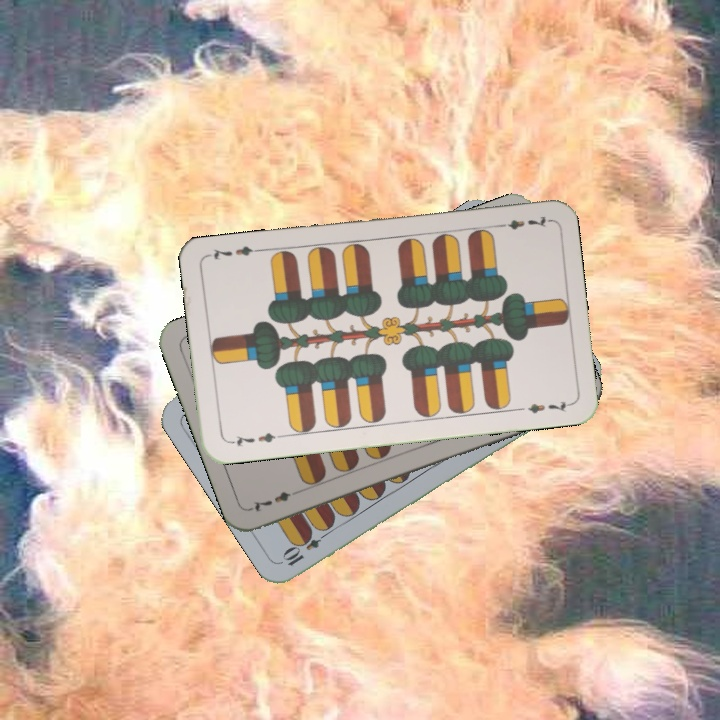E10: (279, 525, 333, 569)
E7: (247, 485, 304, 514), (225, 428, 284, 449), (492, 212, 551, 232)
